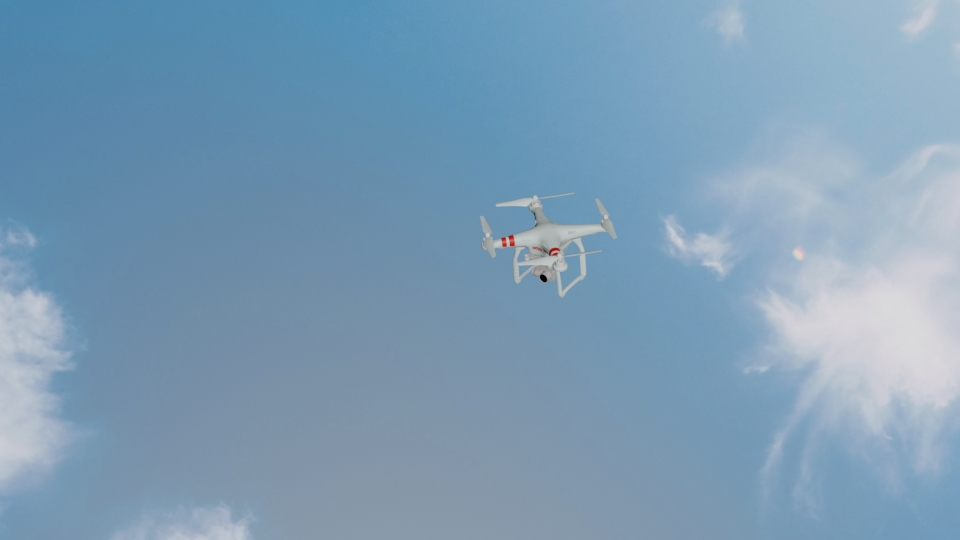drone: (474, 189, 621, 301)
